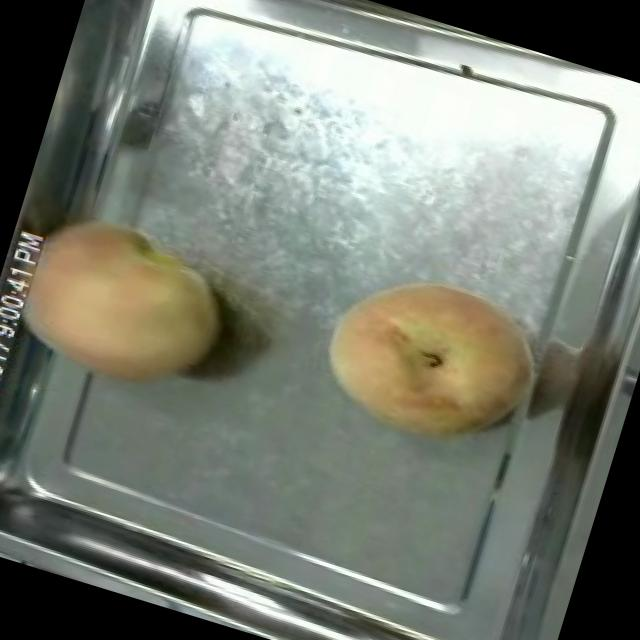Fruit: (300, 244, 553, 472), (0, 188, 249, 413)
